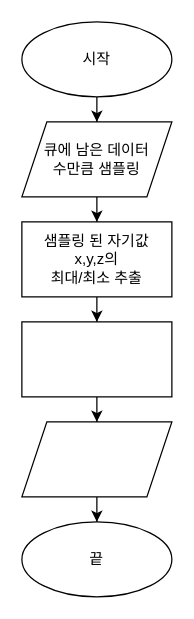
The diagram is 194 pixels wide and 619 high, and some of its shapes have lost their labels. Each missing label, with the centre of its shape:
보정된 자기값 (calibration값) 계산 = 중간값: [96,359]
현재 calibration값 저장: [96,459]
